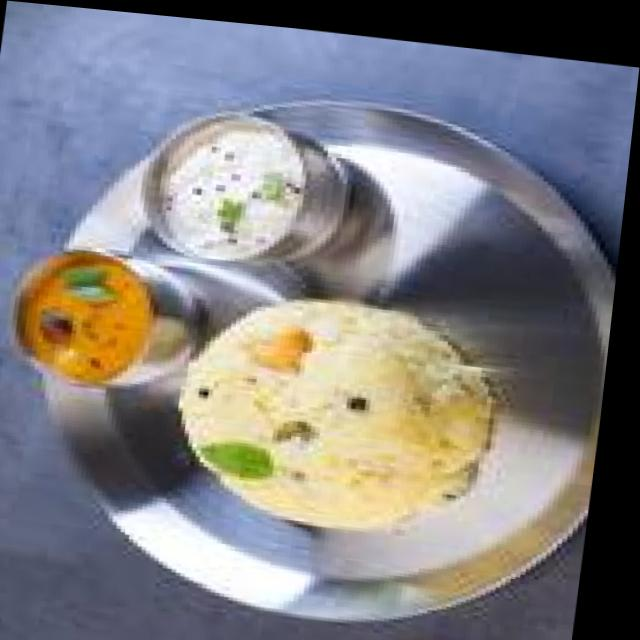PONGAL: (177, 301, 490, 532)
SAMBAR: (10, 252, 190, 388)
WHITE CHUTNEY: (139, 115, 342, 262)
